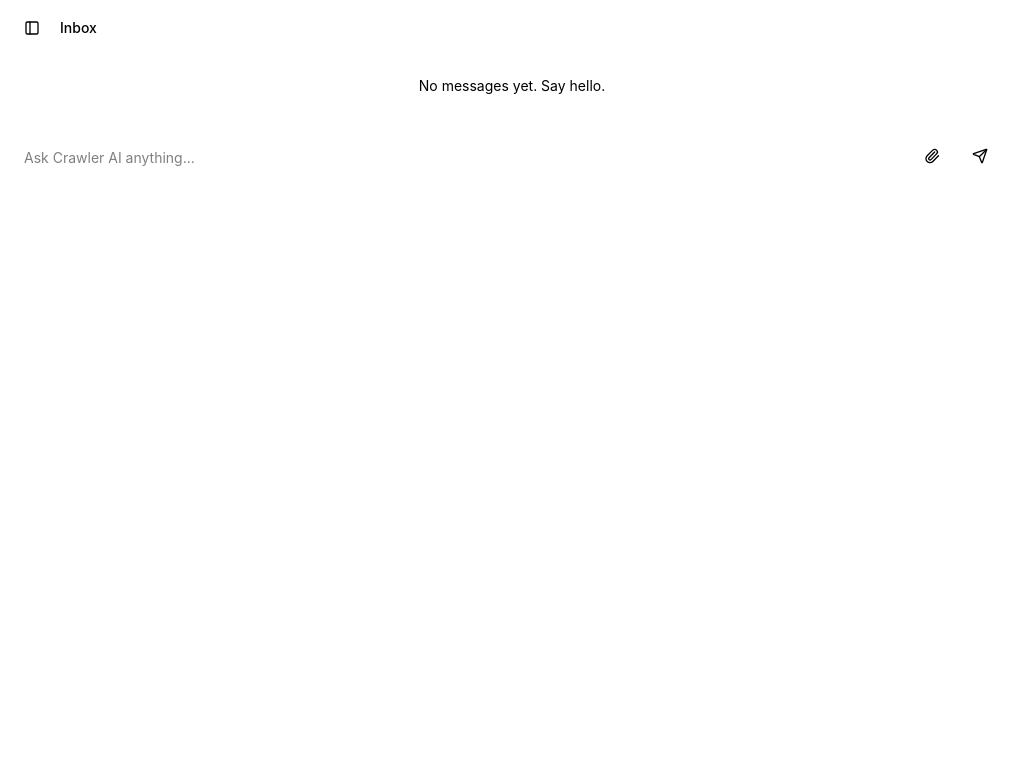
Test case: Chat's low-risk button on an approval card › offers a streamed card's account and, pressed, allows it and removes the card
Type "Star the email from my TA" into the text box named "Message" at (464, 158), box [24,140,904,176]
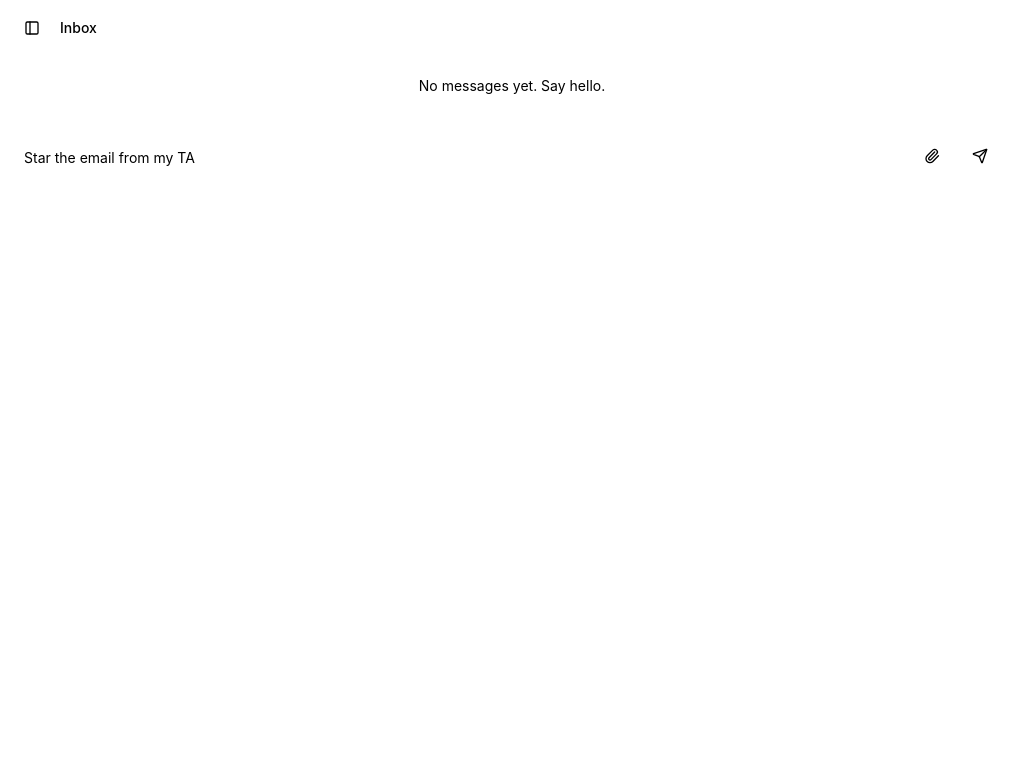
Press Enter in the text box named "Message", box [24,140,904,176]
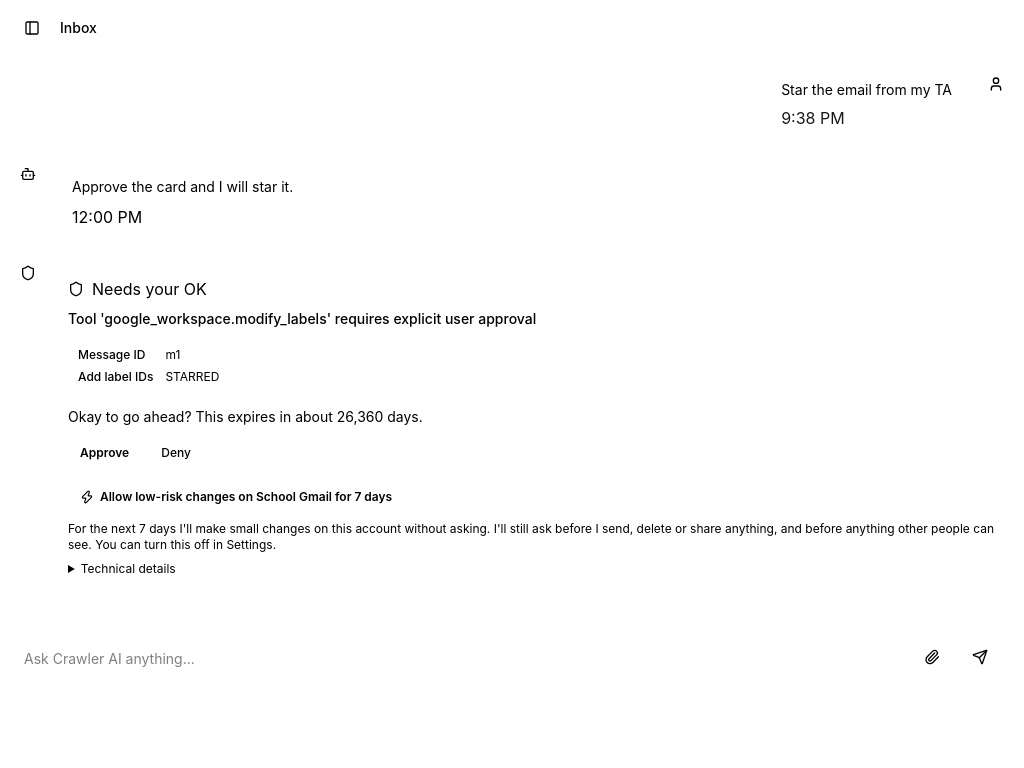
Check: the button "Approve" is shown, box [68,435,141,471]
Click the button "Allow low-risk changes on School Gmail for 7 days" at (236, 497), box [68,479,404,515]
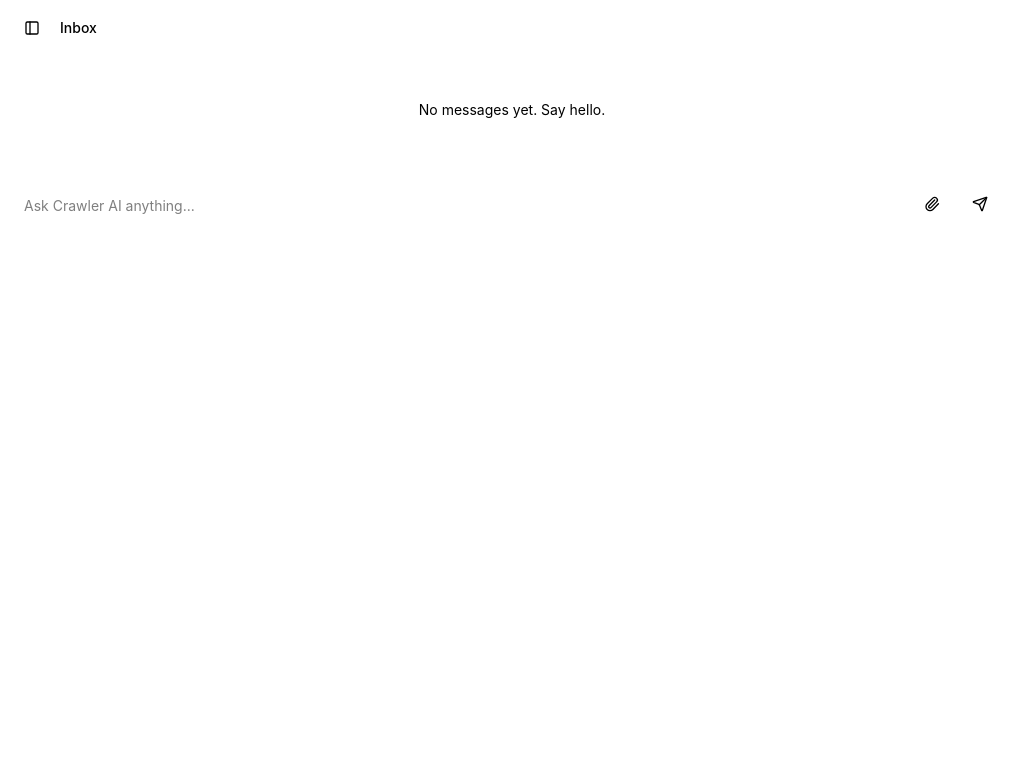
Check: the button "Allow low-risk changes on School Gmail for 7 days" is gone
